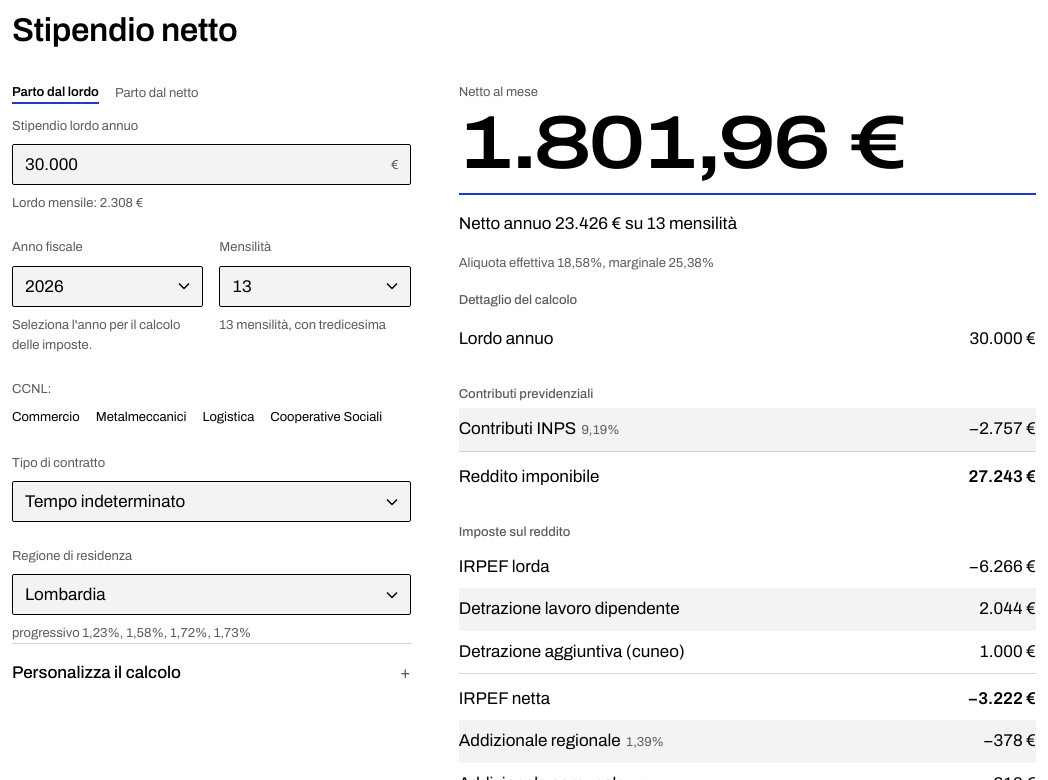
Scenario: EmployeePage › opening extras reveals all six accordion sections plus the municipal field
Step 1. Click the heading "Personalizza il calcolo" → (96, 673), box [12,664,181,682]
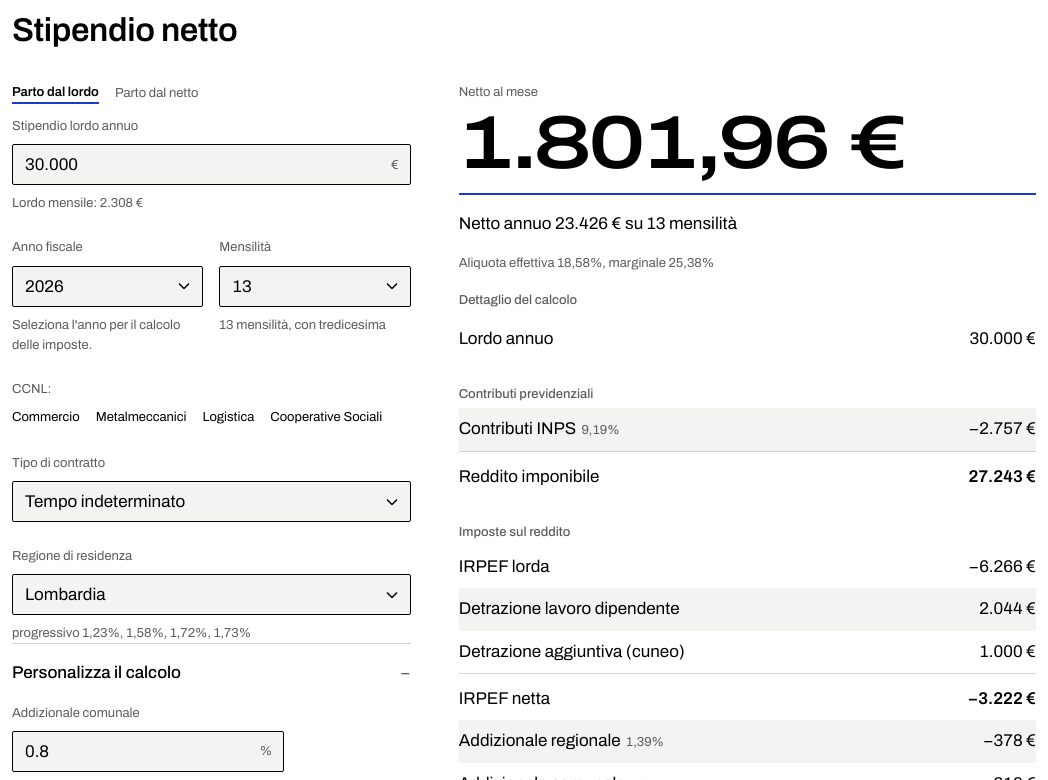
Check: the number field labelled "Addizionale comunale" is shown, box [12,731,284,772]
